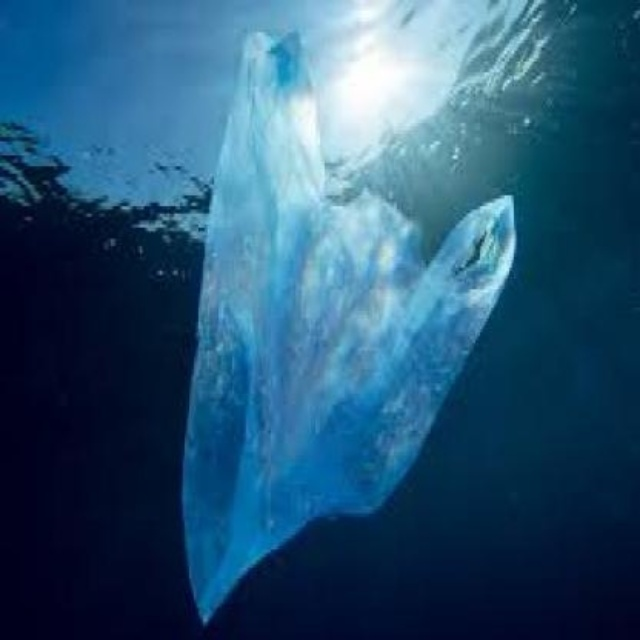trash: (183, 31, 514, 617)
